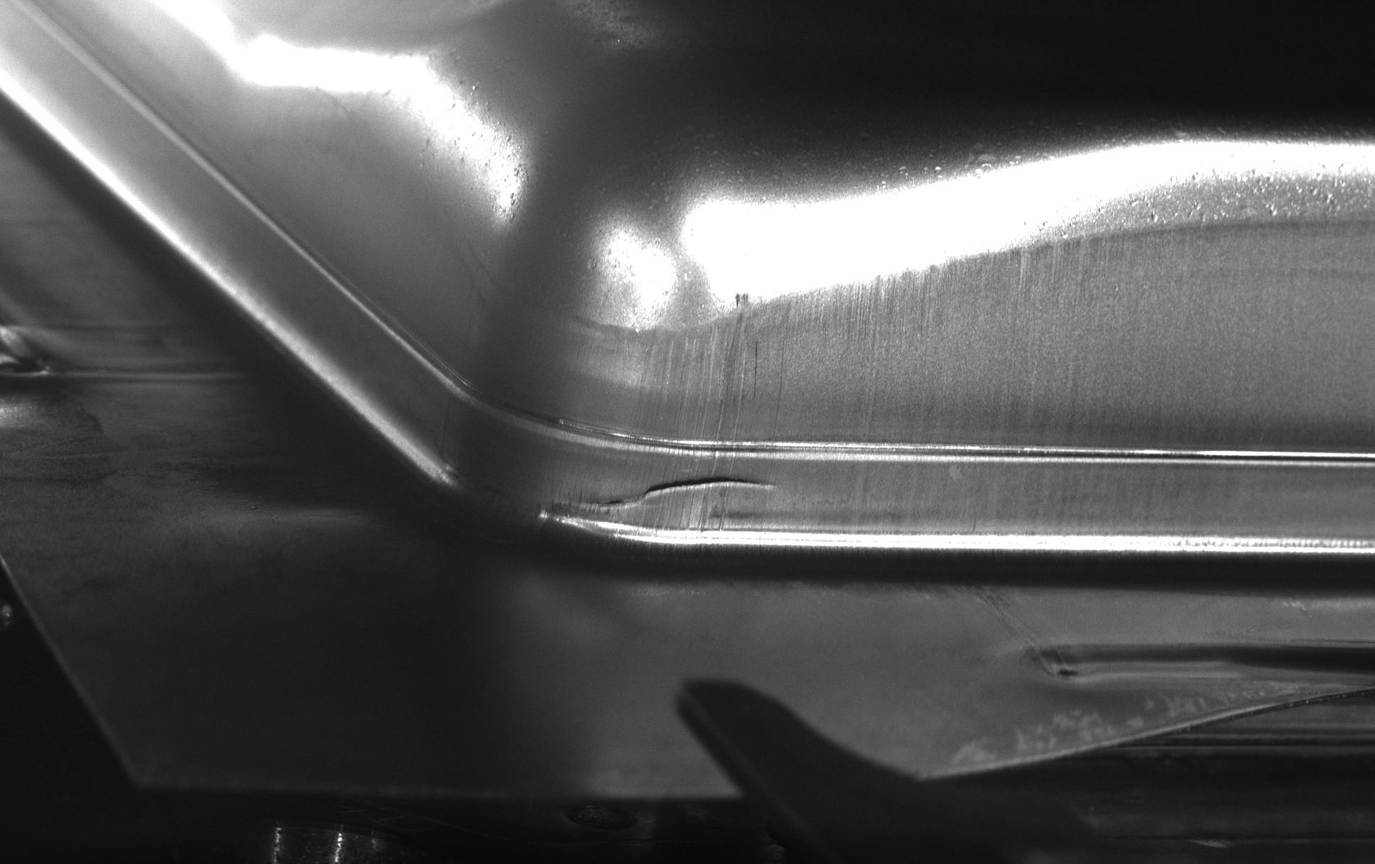crack: (543, 372, 823, 565)
